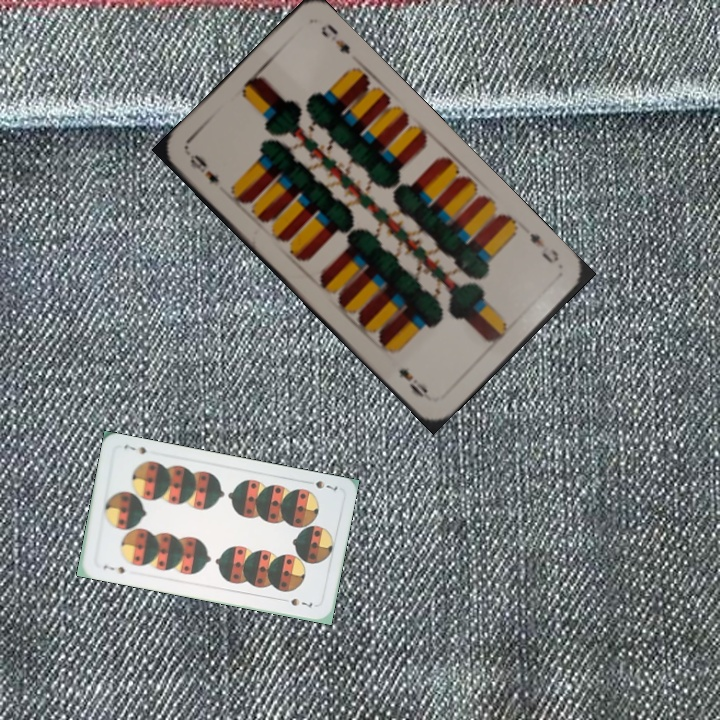E9: (525, 229, 562, 266), (186, 150, 222, 186)
S7: (311, 476, 340, 493), (99, 561, 127, 576)
